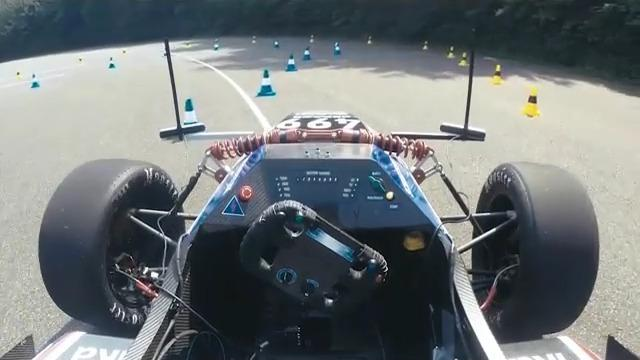blue_cone: (249, 68, 278, 101), (174, 97, 197, 126), (283, 52, 299, 72), (303, 43, 315, 63), (330, 38, 342, 57)
yellow_cone: (520, 87, 548, 125), (492, 63, 507, 84), (419, 34, 436, 52), (458, 49, 471, 68), (446, 41, 457, 57), (366, 33, 374, 47)
